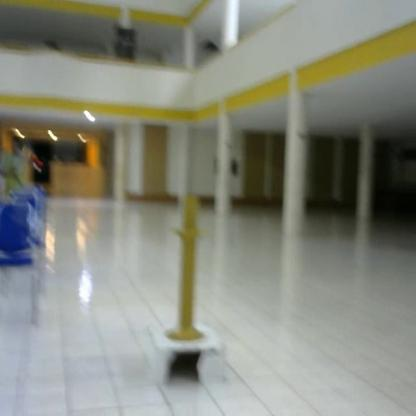pole: (162, 190, 224, 347)
